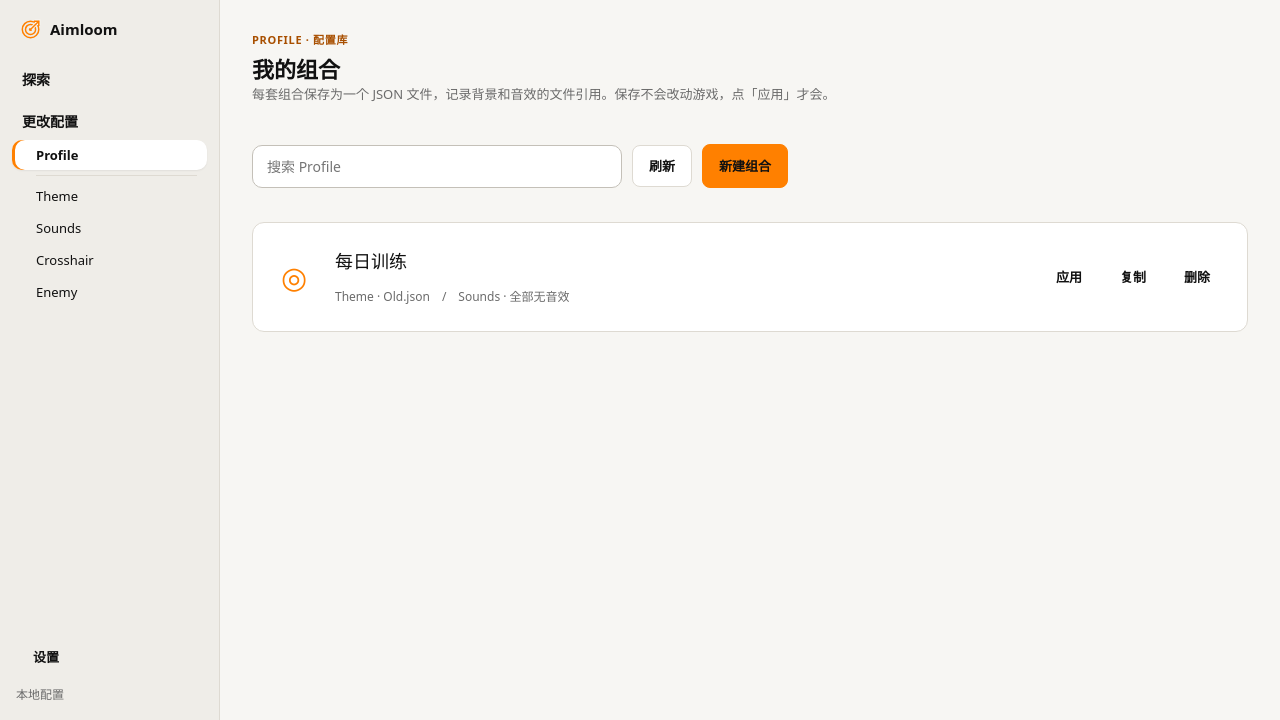
Scenario: a resource sheet shows what the game already has › lists the game's themes, marking the one in use
Click the button with aria-label "编辑 每日训练": [371, 261] box [333,245,1021,309]
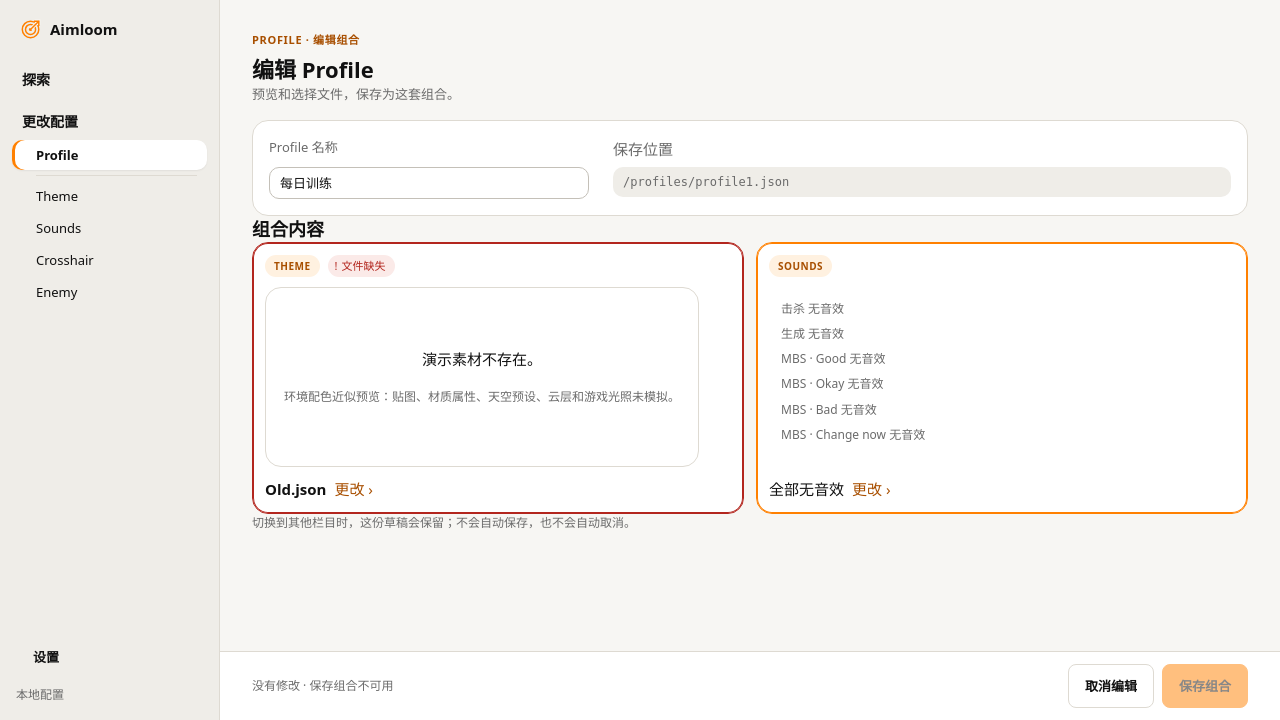
Click the button with aria-label "Theme 背景与环境：Old.json": [498, 378] box [252,242,744,514]
(page scrolled)
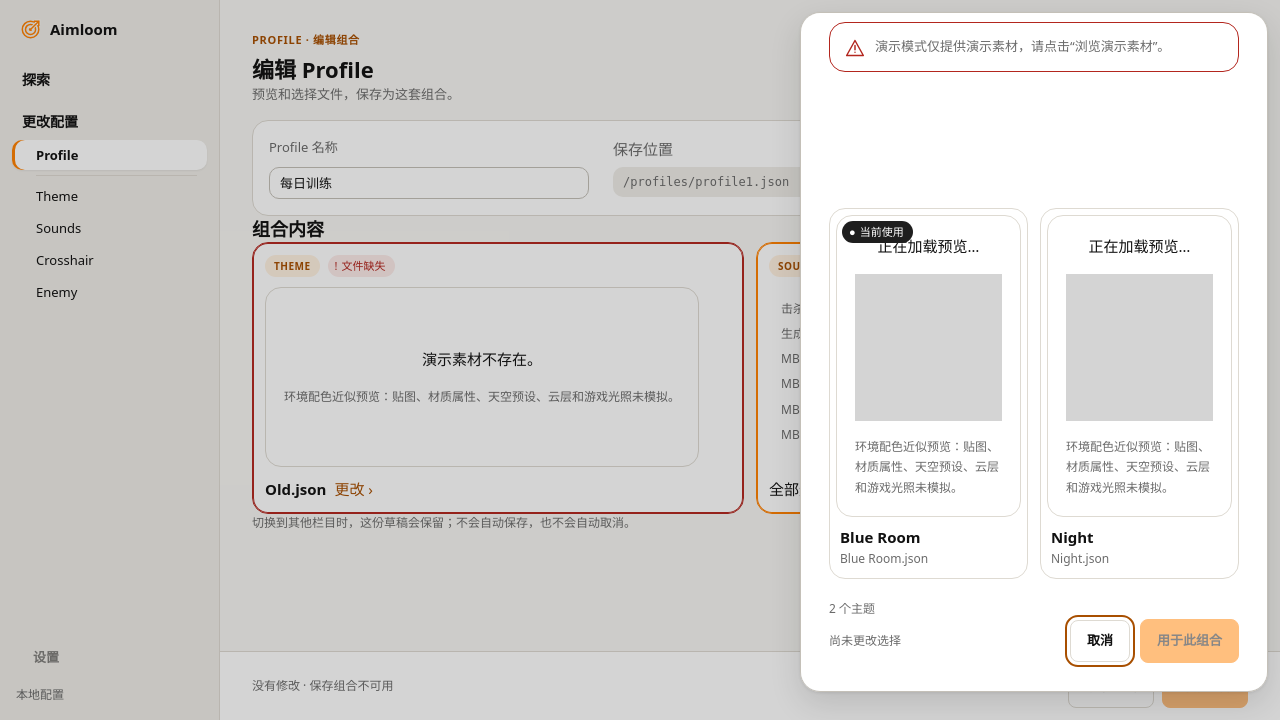
Expected: the button "Blue Room" is shown, [829,208,1028,579]
Expected: the button "正在加载预览… 环境配色近似预览：贴图、材质属性、天空预设、云层和游戏光照未模拟。 Night Night.json" is shown, [1040,208,1239,579]
